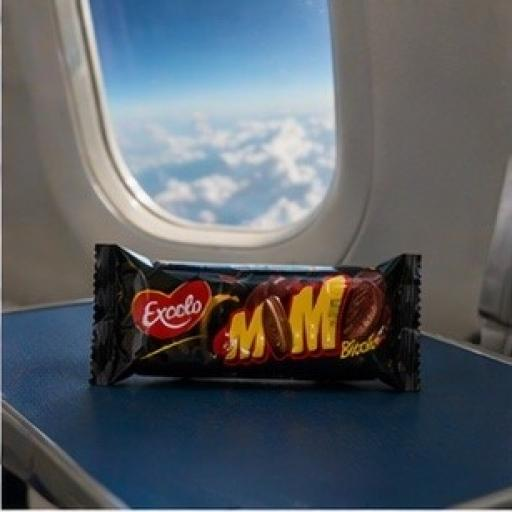MOMO: (61, 180, 459, 465)
